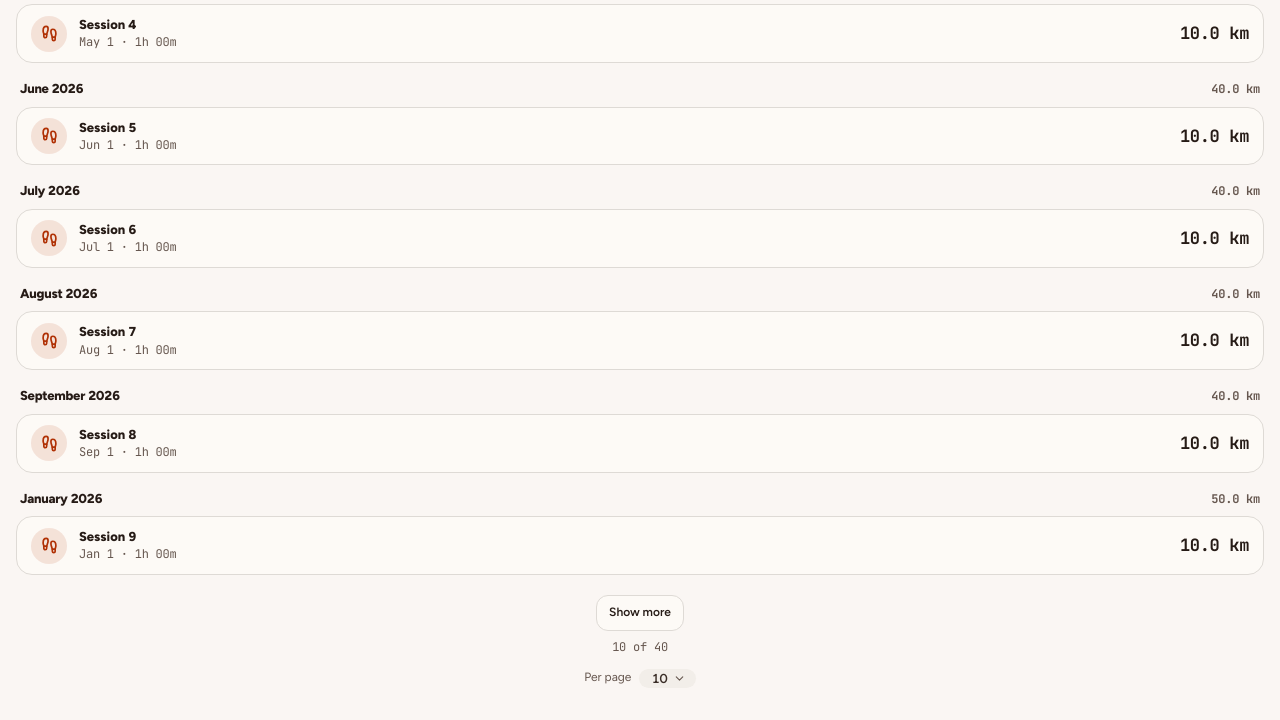
Test: ActivitiesScreen — when there is nothing to choose › keeps the control once the whole list fits, so the choice is reversible
(page scrolled)
Select "50" in the dropdown labelled "Per page 10" at (640, 678), box [584,668,696,688]
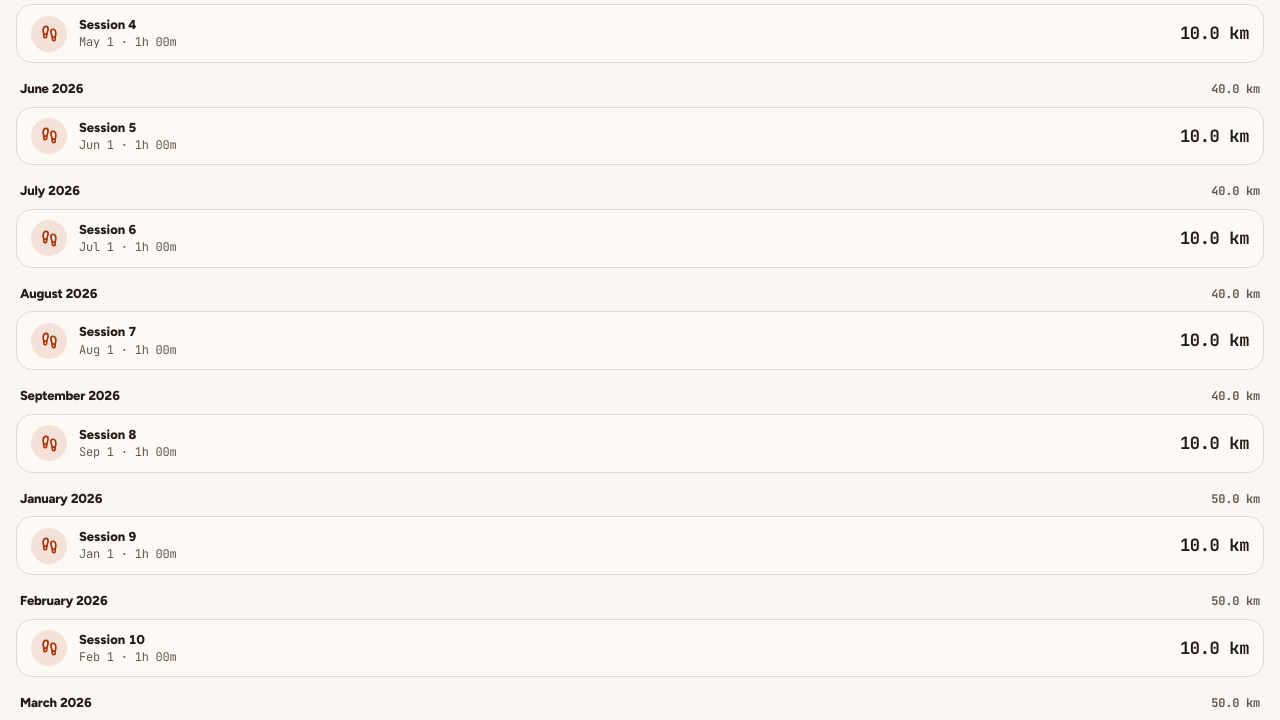
Expected: the button "Show more" is gone
